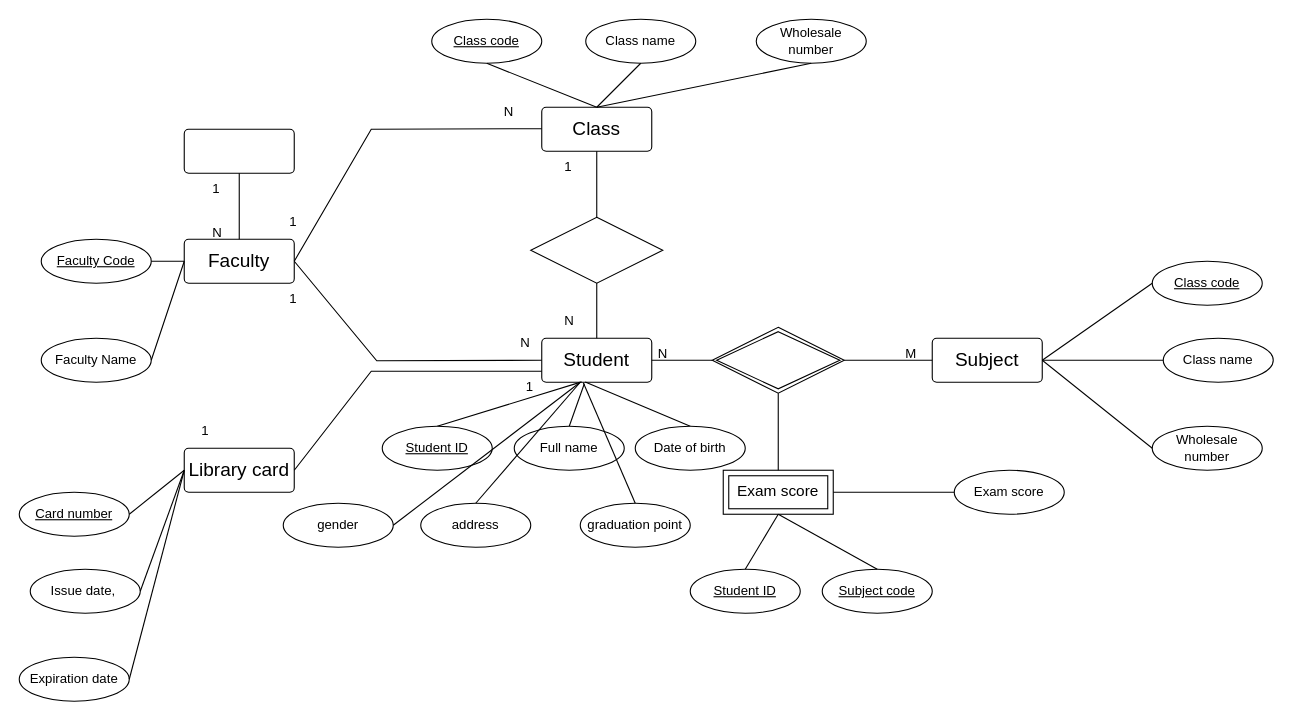
Image size: 1293x721. Some labels were removed from this diagram. The shapes that lost their labels are listed below. From the top down, each one's centre as x and y in pixels, then its label:
point 238,150: University
point 596,249: Place in
point 777,359: Take in
